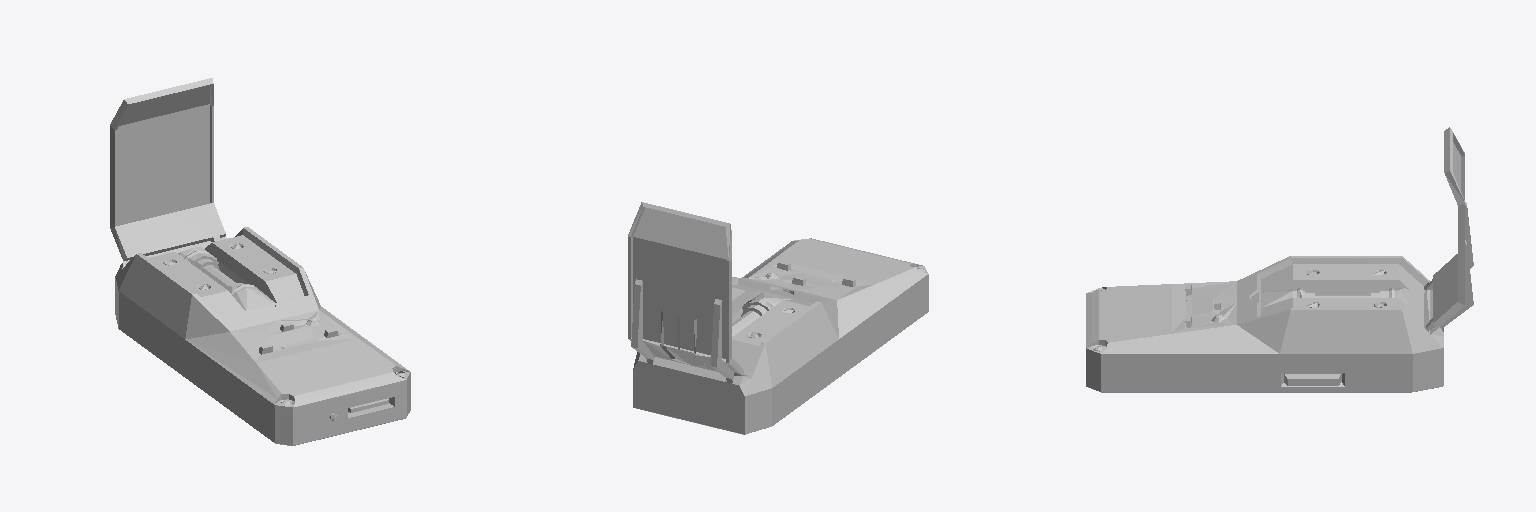
The model's file is echo.obj.
The picture shows the model from 3 angles: view 1: azimuth 30°, elevation 25°; view 2: azimuth 150°, elevation 25°; view 3: azimuth 270°, elevation 25°; orthographic projection.
Visible parts, largest first — view 1: detector_1; view 2: detector_1; view 3: detector_1.
Boxes of the visible parts, box(x1,y1,x2,y2) form: detector_1: box(110, 78, 410, 445); detector_1: box(628, 202, 928, 434); detector_1: box(1086, 127, 1473, 392).
Bounding box in the file's own units: 0.0676 × 0.0967 × 0.1599.